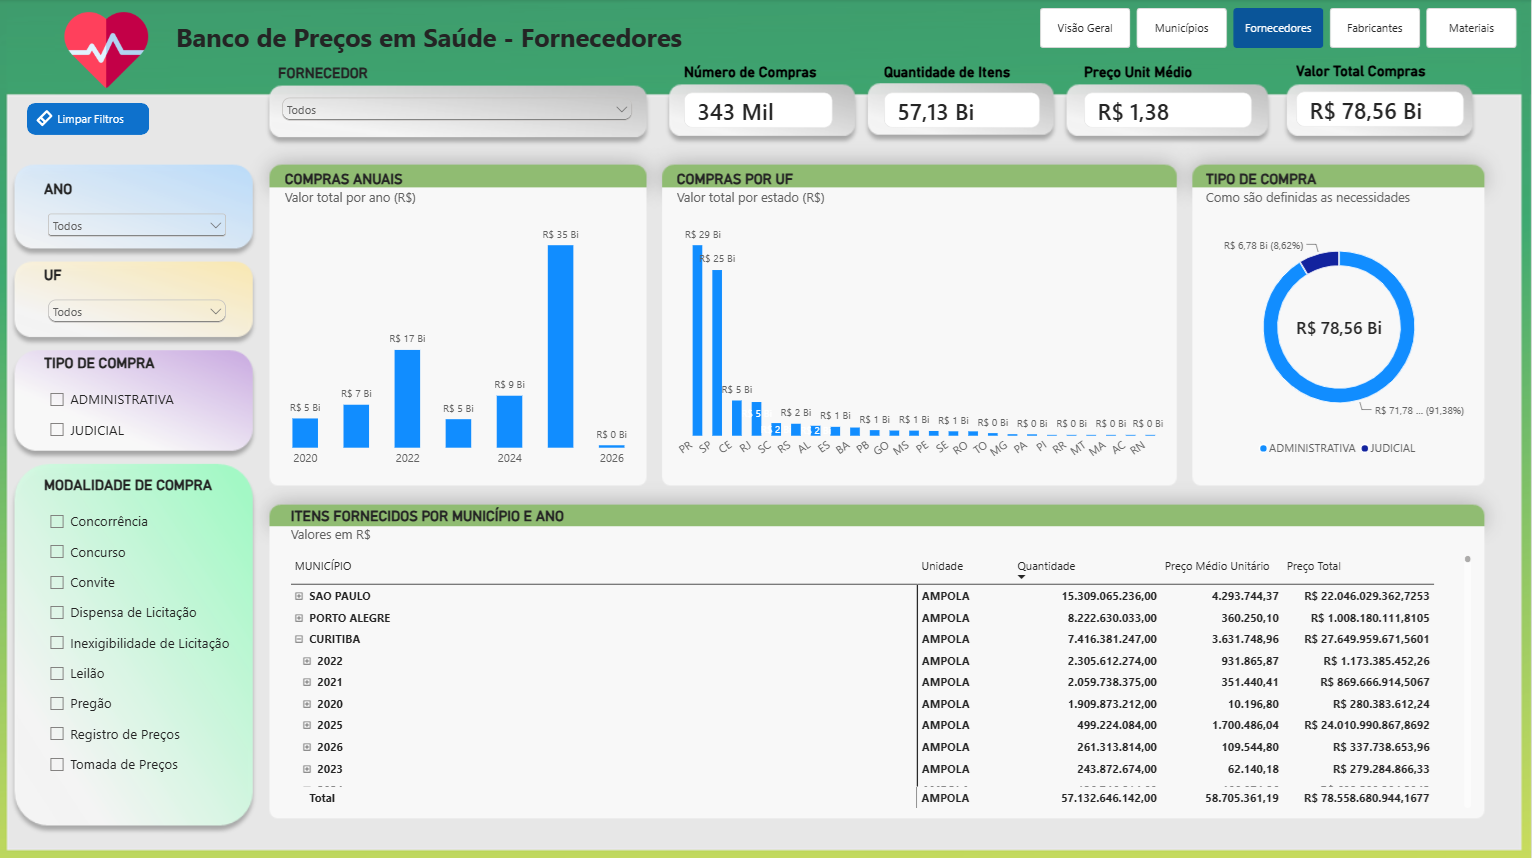

This screenshot's page, from the dashboard's own definition file:
{"tool":"powerbi","page":{"name":"Fornecedores","canvas":[1920,1080],"ordinal":2},"visuals":[{"type":"pivotTable","title":"ITENS FORNECIDOS POR MUNICÍPIO E ANO","fields":{"Rows":["Dim_municipios.municipio_instituicao","Dim_ano.ano","Dim_materiais.descricao_catmat"],"Values":["Min(Fato_BPS_20_2026.unidade_fornecimento)","Sum(Fato_BPS_20_2026.qtd_itens_comprados)","Sum(Fato_BPS_20_2026.preco_unitario_reais)","Sum(Fato_BPS_20_2026.preco_total_reais)"]},"box":[350,622.9,1511.4,407.1],"z":0},{"type":"slicer","title":"FORNECEDOR","fields":{"Values":["Dim_fornecedor.fornecedor"]},"box":[350,81.2,448.8,80],"z":1000},{"type":"columnChart","title":"COMPRAS ANUAIS","fields":{"Category":["Dim_ano.ano"],"Y":["Sum(Fato_BPS_20_2026.preco_total_reais)"]},"box":[341.4,200,467.1,405.7],"z":2000},{"type":"columnChart","title":"COMPRAS POR UF","fields":{"Category":["Dim_municipios.uf"],"Y":["Sum(Fato_BPS_20_2026.preco_total_reais)"]},"box":[832.9,200,641.4,405.7],"z":3000},{"type":"donutChart","title":"TIPO DE COMPRA","fields":{"Category":["Dim_tipo_compra.tipo_compra"],"Y":["Sum(Fato_BPS_20_2026.preco_total_reais)"]},"box":[1495.7,200,365.7,392.9],"z":4000},{"type":"textbox","box":[221.7,25,901.7,50],"z":13000},{"type":"actionButton","box":[35,130,153.3,40],"z":15005},{"type":"cardVisual","title":"Número de Compras","fields":{"Data":["_Medidas.Numero de Registros"]},"box":[858.3,80,186.7,81.7],"z":15006},{"type":"cardVisual","title":"Quantidade de Itens","fields":{"Data":["_Medidas.Quantidade Total de Itens"]},"box":[1108.3,80,195,81.7],"z":15007},{"type":"cardVisual","title":"Preço Unit Médio","fields":{"Data":["_Medidas.Preco Unitario Medio Ponderado"]},"box":[1360,80,210,81.7],"z":15008},{"type":"cardVisual","title":"Valor Total Compras","fields":{"Data":["_Medidas.Valor Total Registrado"]},"box":[1625,78.9,210.9,81.5],"z":15009},{"type":"image","box":[78.3,11.7,110,105],"z":15010},{"type":"pageNavigator","box":[1304.2,11.6,600,50],"z":15011},{"type":"slicer","title":"TIPO DE COMPRA","fields":{"Values":["Dim_tipo_compra.tipo_compra"]},"box":[56.9,445.1,233.3,118.3],"z":15012},{"type":"slicer","title":"MODALIDADE DE COMPRA","fields":{"Values":["Dim_modalidade_compra.modalidade_compra"]},"box":[56.9,597.7,233.3,393.3],"z":15013},{"type":"slicer","title":"ANO","fields":{"Values":["Dim_ano.ano"]},"box":[56.7,226.7,233.3,125],"z":15014},{"type":"slicer","title":"UF","fields":{"Values":["Dim_municipios.uf"]},"box":[56.9,335.1,233.3,73.3],"z":15015}]}

Visuals, with their boxes in screenshot pixels (x1, y1, x2, y2), scaled from the page's 1920x1080 canvas onto the 1532x858 screenshot:
"ITENS FORNECIDOS POR MUNICÍPIO E ANO" pivotTable: <region>279, 495, 1485, 818</region>
"FORNECEDOR" slicer: <region>279, 65, 637, 128</region>
"COMPRAS ANUAIS" columnChart: <region>272, 159, 645, 481</region>
"COMPRAS POR UF" columnChart: <region>665, 159, 1176, 481</region>
"TIPO DE COMPRA" donutChart: <region>1193, 159, 1485, 471</region>
textbox: <region>177, 20, 896, 60</region>
actionButton: <region>28, 103, 150, 135</region>
"Número de Compras" cardVisual: <region>685, 64, 834, 128</region>
"Quantidade de Itens" cardVisual: <region>884, 64, 1040, 128</region>
"Preço Unit Médio" cardVisual: <region>1085, 64, 1253, 128</region>
"Valor Total Compras" cardVisual: <region>1297, 63, 1465, 127</region>
image: <region>62, 9, 150, 93</region>
pageNavigator: <region>1041, 9, 1519, 49</region>
"TIPO DE COMPRA" slicer: <region>45, 354, 232, 448</region>
"MODALIDADE DE COMPRA" slicer: <region>45, 475, 232, 787</region>
"ANO" slicer: <region>45, 180, 231, 279</region>
"UF" slicer: <region>45, 266, 232, 324</region>
